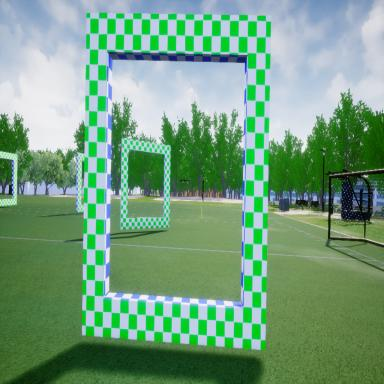gate: (81, 5, 275, 361), (119, 137, 172, 234)
